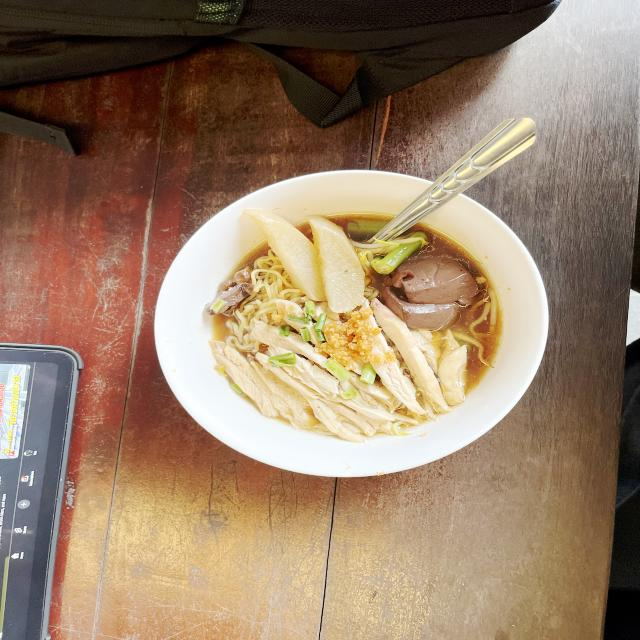boiled_chicken_blood_jelly: (389, 256, 471, 322)
chicken_shredded: (228, 310, 458, 424)
daikon_radish: (240, 206, 368, 311)
noodle: (200, 198, 521, 450)
